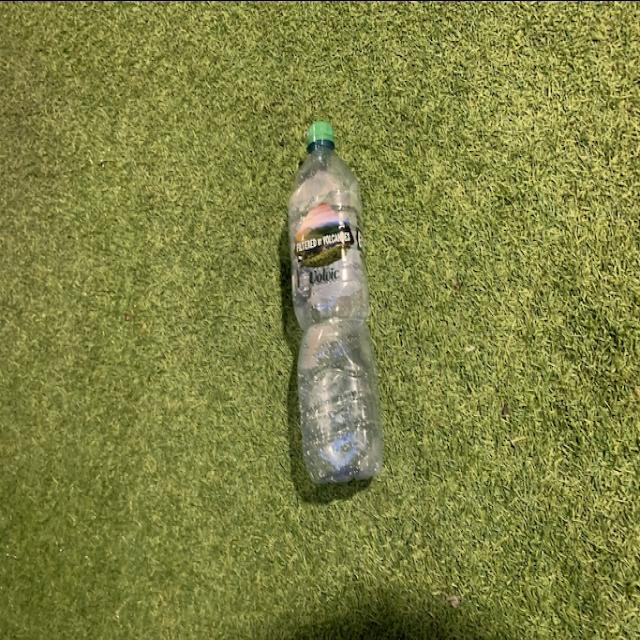litter: (290, 120, 380, 482)
